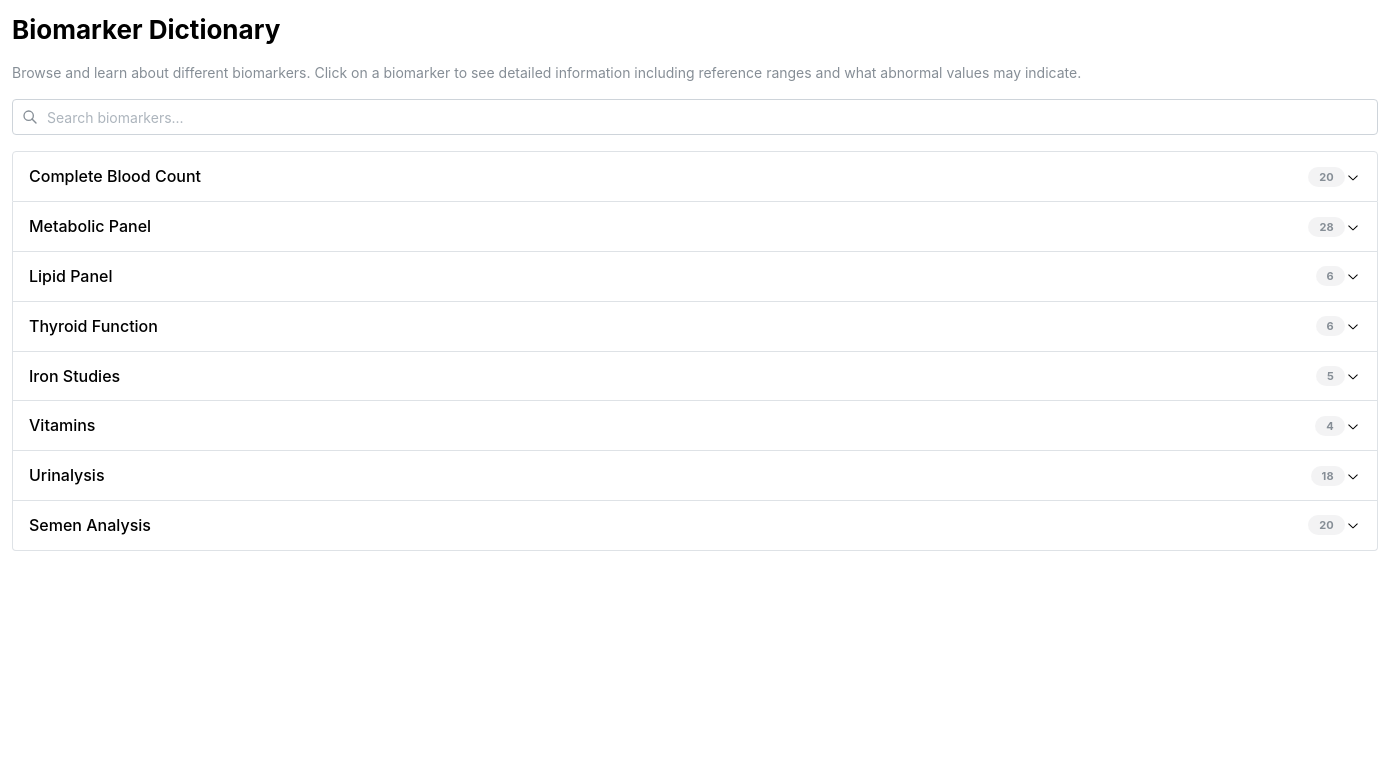
Scenario: BiomarkerDictionary › search functionality › should search by alias
Step 1. Type "WBC" into the field with placeholder "Search biomarkers..." → [695, 117], box [12, 99, 1378, 135]
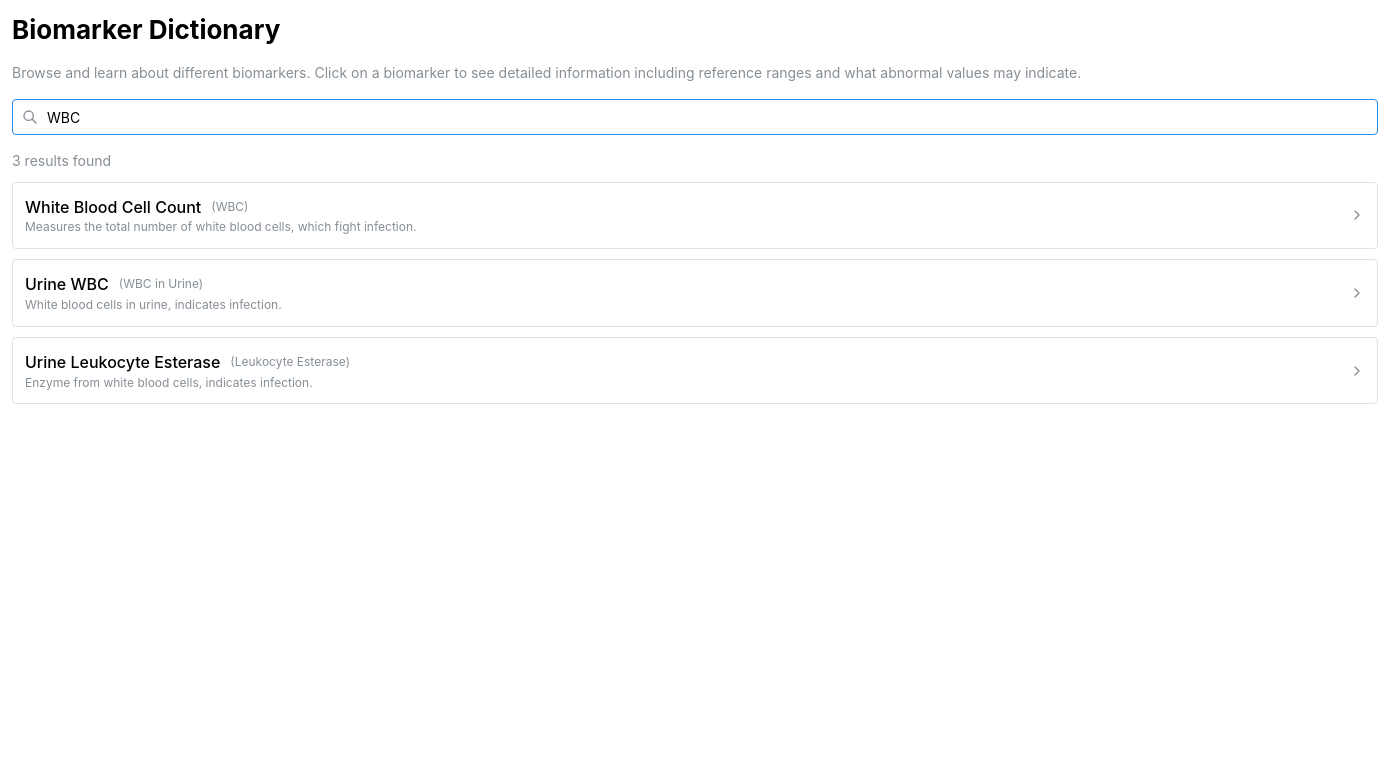
Expected: the text "White Blood Cell Count" is shown, [25, 195, 201, 220]
